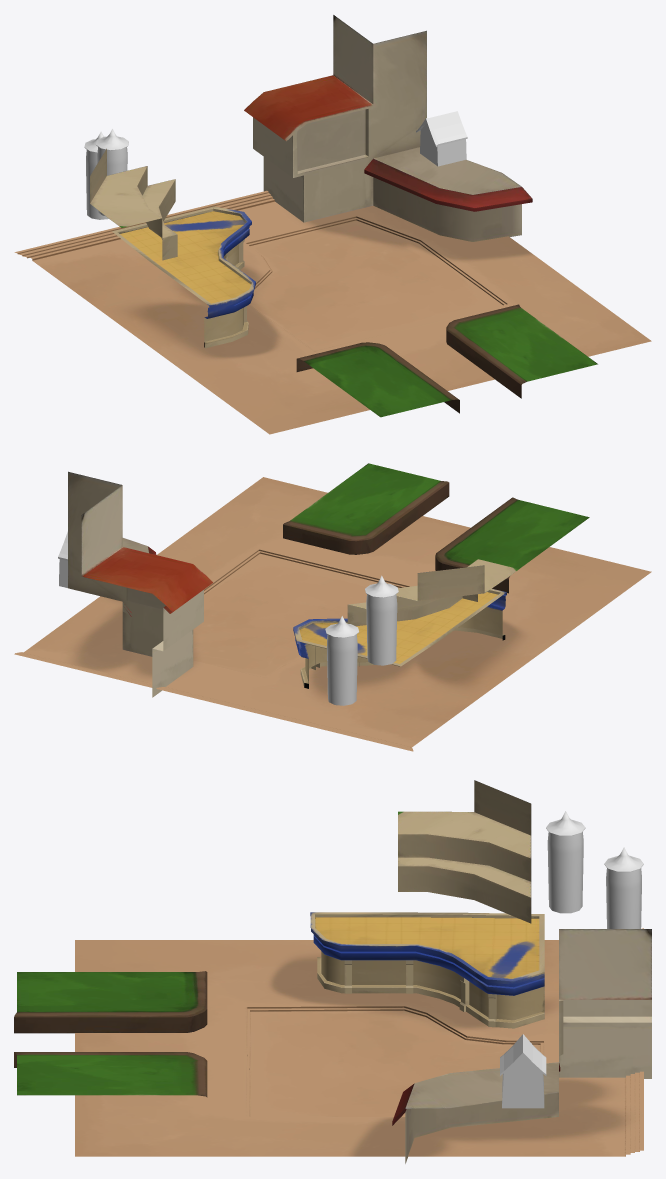
Rendered from t1_towncenter.fbx.
3 views of the same model, one above another, from view 1: azimuth 30°, elevation 25°; view 2: azimuth 150°, elevation 25°; view 3: azimuth 270°, elevation 25° (orthographic). The views are drawn at different scales.
Visible parts, largest first — view 1: Plane, Cube, Cube.006, Cube.001, Cylinder.001; view 2: Plane, Cube, Cylinder.001, Cube.006; view 3: Plane, Cube, Cube.006, Cylinder.001, Cube.001, Cube.005.
Part boxes in pixels (x1,y1,x2,y2): Plane: (14, 190, 651, 434); Cube: (112, 15, 597, 417); Cube.006: (90, 148, 177, 260); Cube.001: (416, 111, 467, 166); Cylinder.001: (84, 129, 128, 219); Plane: (14, 477, 651, 751); Cube: (68, 463, 589, 697); Cylinder.001: (325, 575, 398, 705); Cube.006: (347, 559, 518, 626); Plane: (75, 928, 643, 1156); Cube: (14, 912, 651, 1163); Cube.006: (398, 780, 531, 923); Cylinder.001: (546, 811, 643, 928); Cube.001: (500, 1034, 546, 1108); Cube.005: (344, 960, 496, 1027).
Bounding box in the file's own units: 1883 × 722 × 2187.
